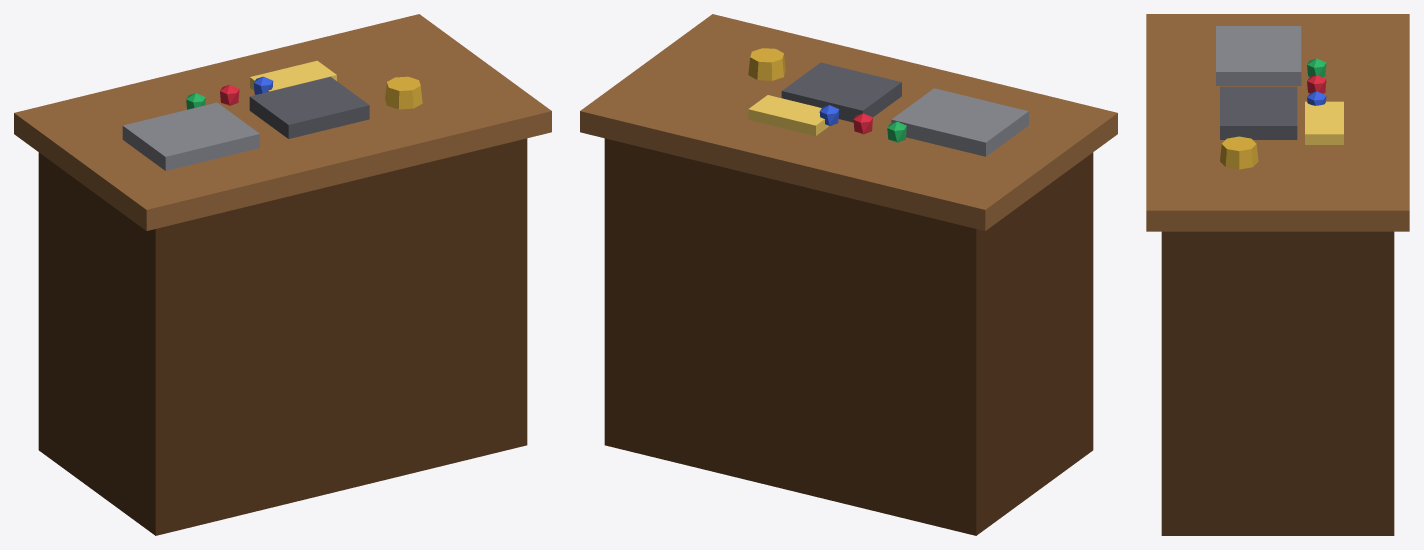
Rendered from jeweller.glb.
3 renders of one model, left to right at view 1: azimuth 30°, elevation 25°; view 2: azimuth 150°, elevation 25°; view 3: azimuth 270°, elevation 25°, orthographic.
Parts seen in each view (by area): view 1: jeweller; view 2: jeweller; view 3: jeweller.
Boxes of the visible parts, box(x1,y1,x2,y2) form: jeweller: box(14, 14, 551, 535); jeweller: box(580, 14, 1117, 535); jeweller: box(1146, 14, 1409, 535).
Bounding box in the file's own units: 1.2 × 1.01 × 0.68.
